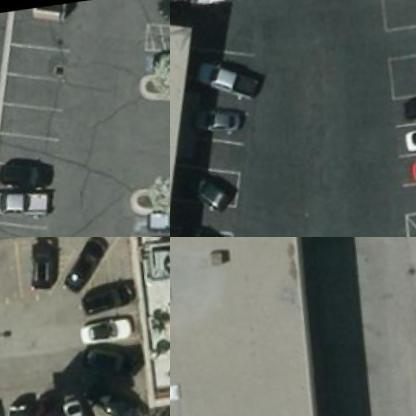car: (172, 93, 247, 142), (192, 50, 266, 98), (60, 237, 115, 296), (170, 162, 234, 212), (0, 144, 57, 197), (0, 180, 52, 219), (81, 310, 136, 346), (78, 282, 134, 317), (25, 237, 62, 289), (85, 343, 132, 377), (170, 218, 250, 236), (57, 389, 94, 415), (7, 393, 36, 415), (400, 119, 415, 154), (400, 150, 415, 185), (401, 87, 415, 122), (153, 206, 169, 236)
